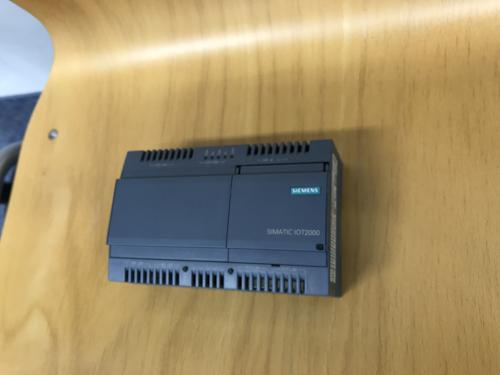device: (106, 139, 343, 298)
